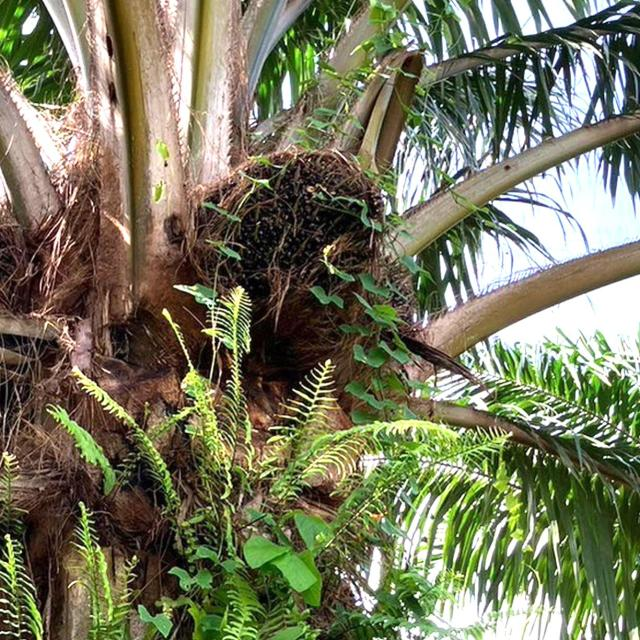unripe: (180, 134, 388, 332)
